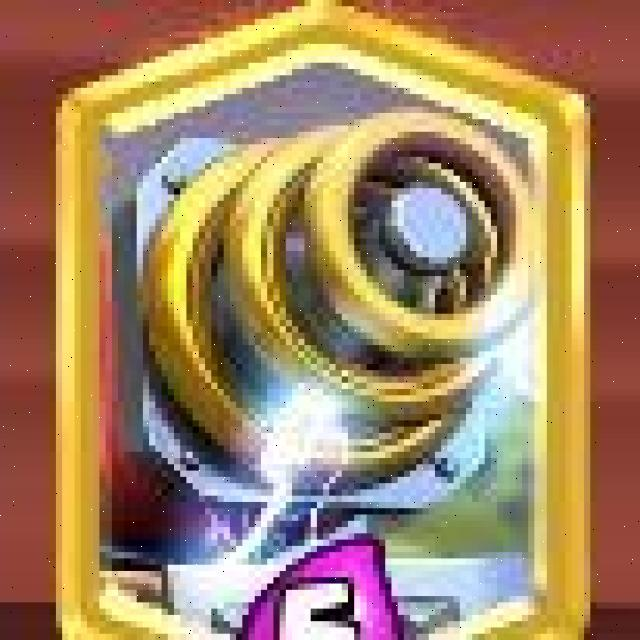Sparky: (66, 4, 590, 640)
